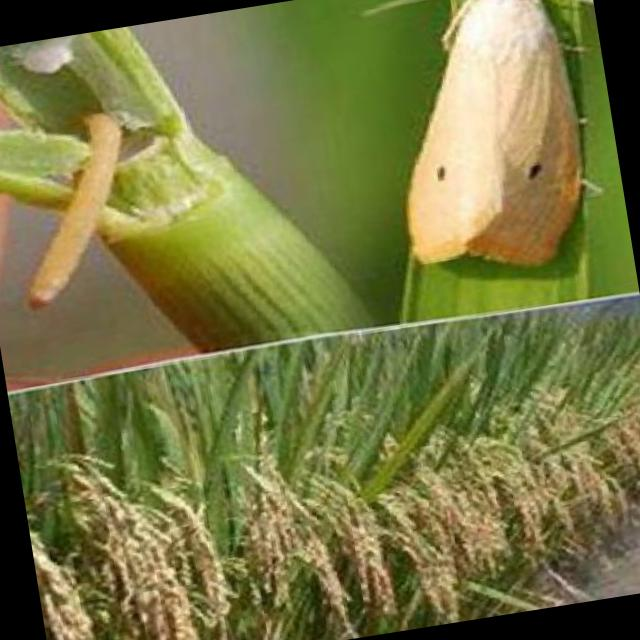stem-borer: (367, 0, 633, 289)
